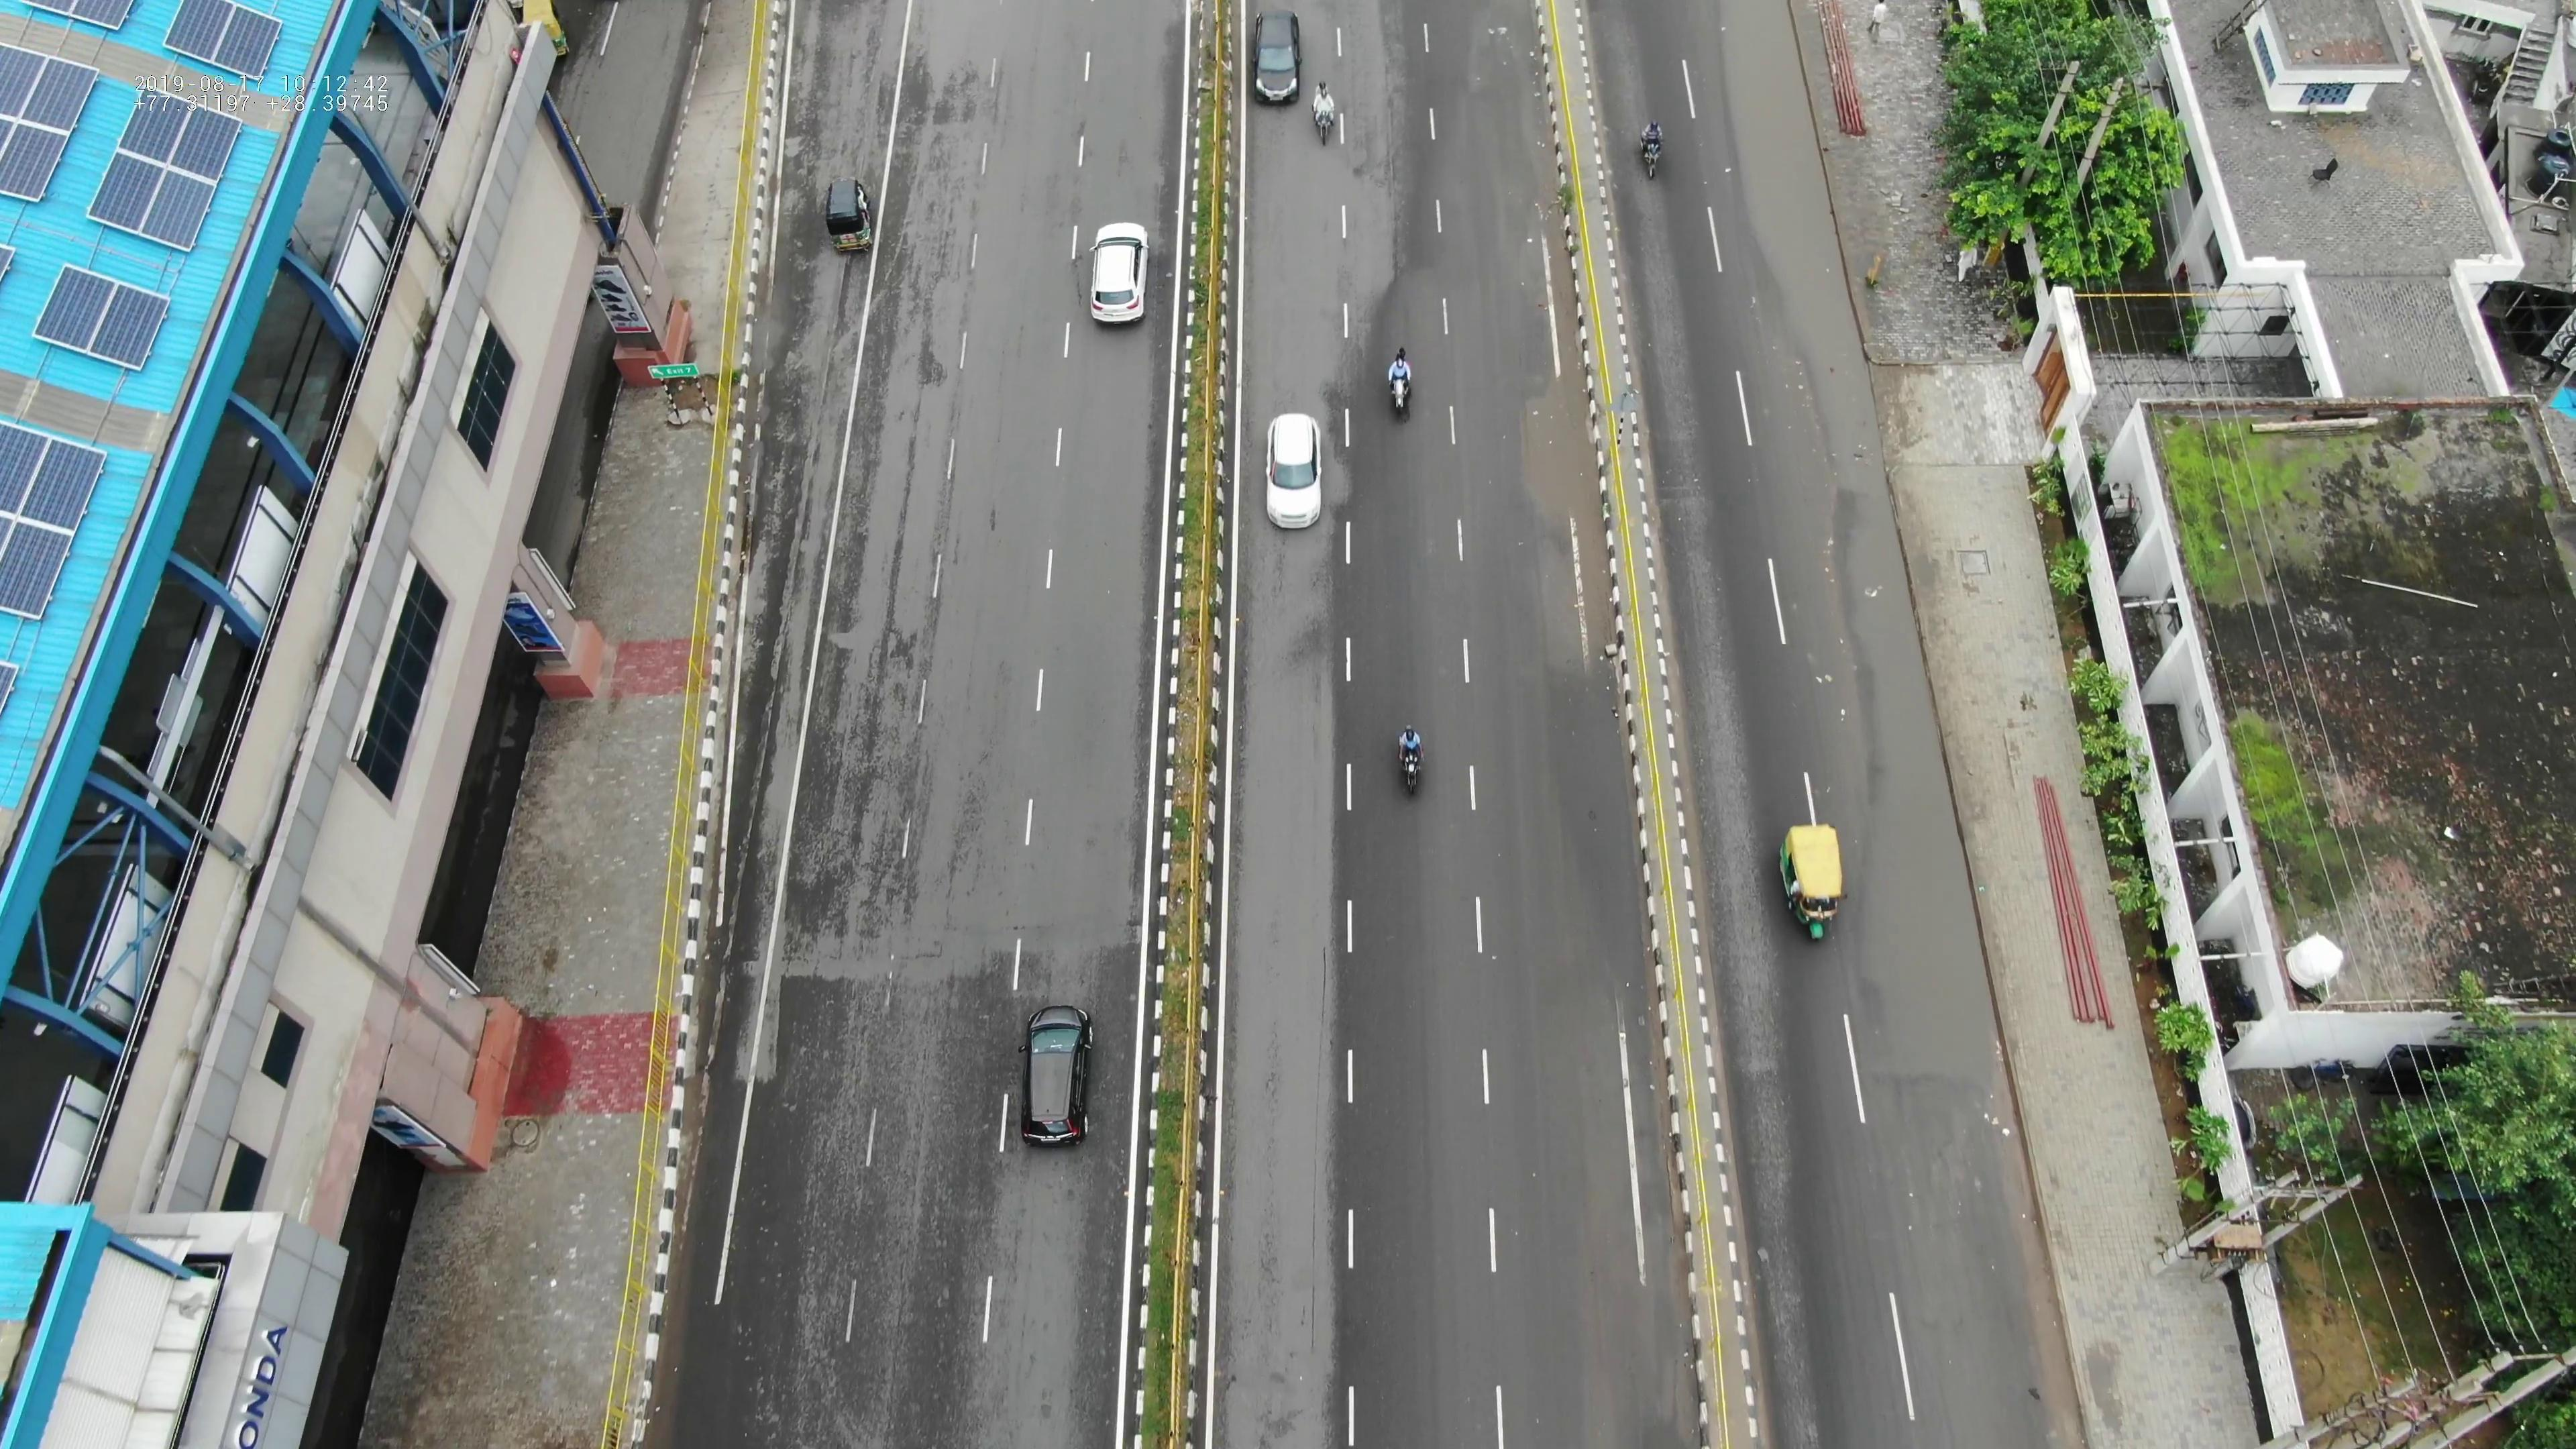Muddy_road: (1491, 356, 1622, 596)
Waterlogging: (1805, 499, 1973, 1065), (1695, 9, 1854, 363)
